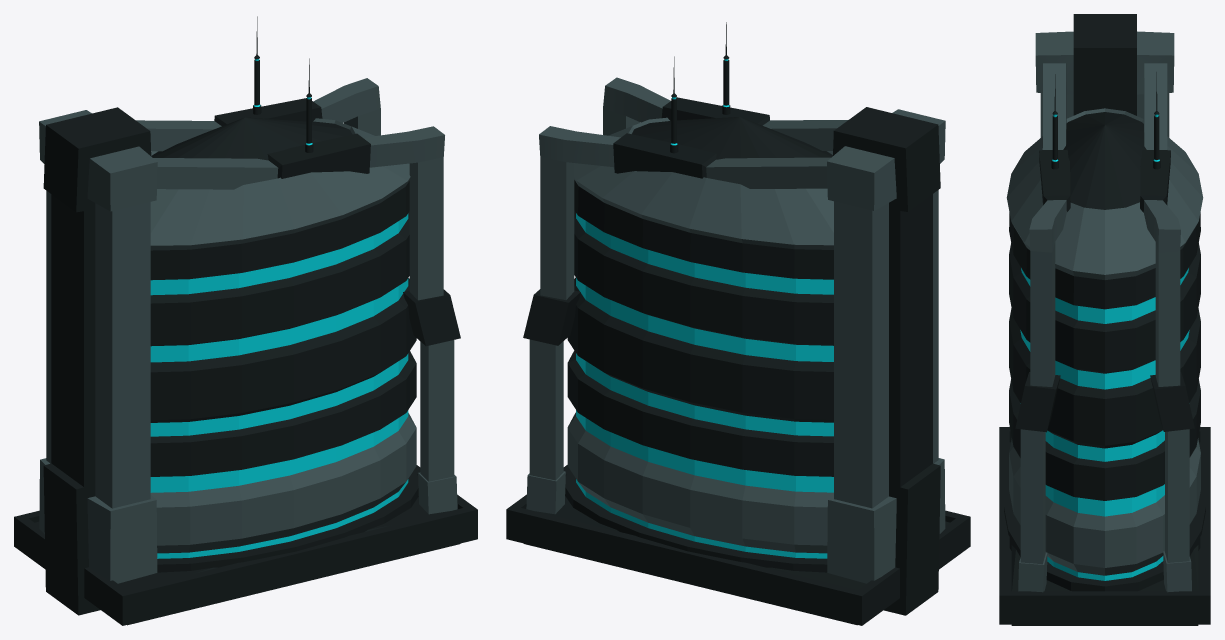
Rendered from SiloHouse.fbx.
3 renders of one model, left to right at view 1: azimuth 30°, elevation 25°; view 2: azimuth 150°, elevation 25°; view 3: azimuth 270°, elevation 25°, orthographic. The views are drawn at different scales.
Visible parts, largest first — view 1: SiloHouse; view 2: SiloHouse; view 3: SiloHouse.
Boxes of the visible parts, left/top/right/bottom form: SiloHouse: left=14, top=16, right=477, bottom=625; SiloHouse: left=506, top=22, right=970, bottom=625; SiloHouse: left=999, top=14, right=1210, bottom=625.
Bounding box in the file's own units: 12.04 × 16.34 × 6.23.
